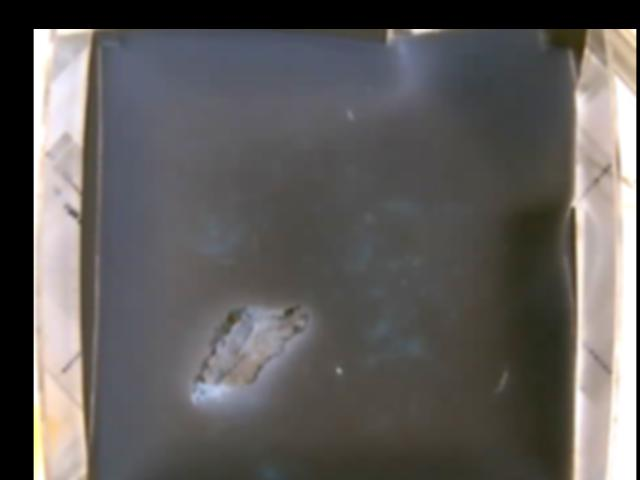Brisk: (193, 303, 309, 399)
